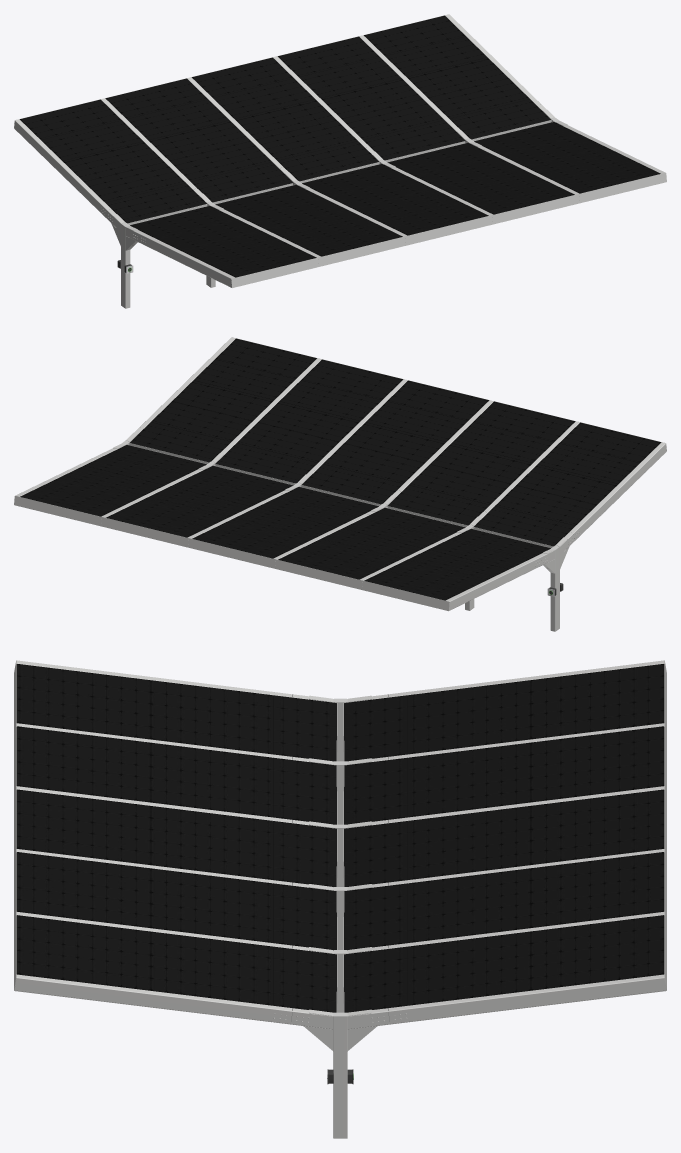
The model's file is Pac_10.glb.
The picture shows the model from 3 angles, top to bottom: view 1: azimuth 30°, elevation 25°; view 2: azimuth 150°, elevation 25°; view 3: azimuth 270°, elevation 25°; orthographic projection. The views are drawn at different scales.
Parts seen in each view (by area): view 1: Left.275, Left.260, Left.245, Left.236, Left.270, Left.255, Left.240, Left.278, Left.252, Left.267; view 2: Left.260, Left.275, Left.245, Left.236, Left.270, Left.255, Left.240, Left.278, Left.267, Left.252; view 3: Left.275, Left.260, Left.245, Left.240, Left.270, Left.255, Left.248, Left.236, Left.278, Left.263, Left.242.
Part boxes in pixels (left/top/right/bottom): Left.275: left=20, top=78, right=402, bottom=277; Left.260: left=192, top=36, right=574, bottom=235; Left.245: left=364, top=15, right=660, bottom=193; Left.236: left=14, top=14, right=666, bottom=287; Left.270: left=14, top=98, right=320, bottom=287; Left.255: left=187, top=56, right=493, bottom=236; Left.240: left=359, top=14, right=665, bottom=194; Left.278: left=121, top=201, right=215, bottom=308; Left.252: left=299, top=141, right=465, bottom=182; Left.267: left=127, top=183, right=293, bottom=224; Left.260: left=106, top=359, right=488, bottom=558; Left.275: left=278, top=401, right=660, bottom=600; Left.245: left=20, top=338, right=316, bottom=516; Left.236: left=14, top=337, right=666, bottom=610; Left.270: left=360, top=421, right=666, bottom=610; Left.255: left=187, top=379, right=493, bottom=559; Left.240: left=15, top=337, right=321, bottom=517; Left.278: left=465, top=524, right=559, bottom=631; Left.267: left=387, top=506, right=553, bottom=547; Left.252: left=215, top=464, right=381, bottom=505; Left.275: left=16, top=664, right=664, bottom=824; Left.260: left=16, top=789, right=664, bottom=950; Left.245: left=16, top=915, right=664, bottom=1012; Left.240: left=14, top=912, right=666, bottom=1029; Left.270: left=16, top=660, right=664, bottom=761; Left.255: left=16, top=786, right=664, bottom=887; Left.248: left=333, top=950, right=347, bottom=1138; Left.236: left=14, top=660, right=666, bottom=990; Left.278: left=333, top=698, right=347, bottom=824; Left.263: left=333, top=824, right=347, bottom=949; Left.242: left=15, top=805, right=665, bottom=1025.
Bounding box in the file's own units: 13.36 × 3.15 × 11.57.
6 materials, 5 textured.
